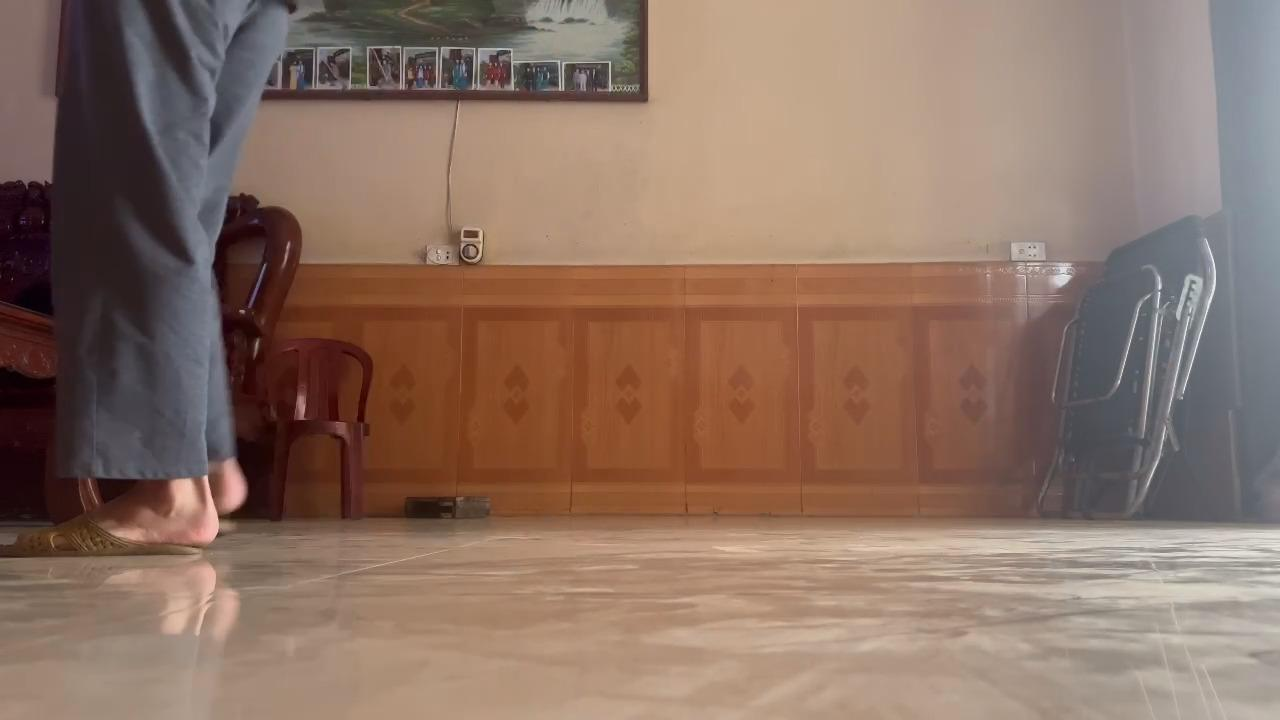no-boot: (0, 482, 225, 570)
